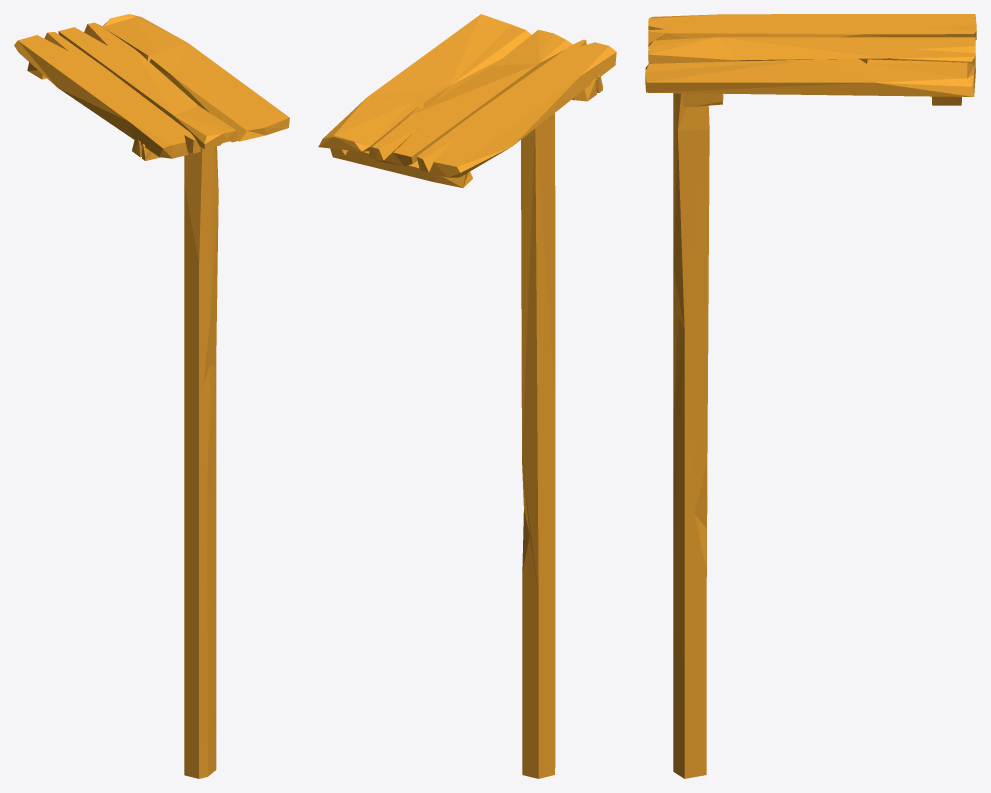
Rendered from SM_Palisade_Gallery_1m.fbx.
The picture shows the model from 3 angles, left to right: view 1: azimuth 30°, elevation 25°; view 2: azimuth 150°, elevation 25°; view 3: azimuth 270°, elevation 25°; orthographic projection. The views are drawn at different scales.
Visible parts, largest first — view 1: palisade-gallery-1m; view 2: palisade-gallery-1m; view 3: palisade-gallery-1m.
Part boxes in pixels (left/top/right/bottom): palisade-gallery-1m: left=14, top=14, right=289, bottom=778; palisade-gallery-1m: left=318, top=14, right=616, bottom=778; palisade-gallery-1m: left=645, top=14, right=976, bottom=778.
Size of the model in its own units: 1.01 by 4.83 by 1.99.
